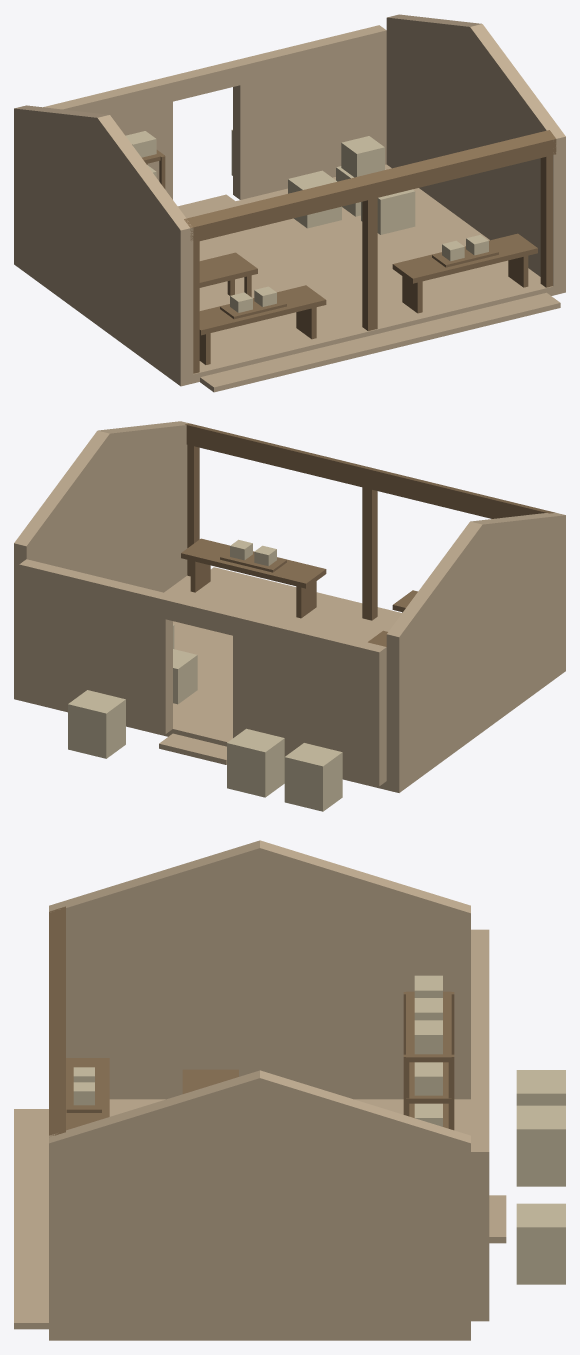
Rendered from N2-replacement.glb.
The picture shows the model from 3 angles, top to bottom: view 1: azimuth 30°, elevation 25°; view 2: azimuth 150°, elevation 25°; view 3: azimuth 270°, elevation 25°; orthographic projection. The views are drawn at different scales.
Visible parts, largest first — view 1: N2_floor, N2_sidewall, N2_rearwall.001, N2_sidewall.001, N2_frontbeam, N2_gable_-3.87, N2_gable_3.87, N2_frontstep, N2_rearwall, N2_counter.001, N2_counter, N2_frontpost.001 (+14 smaller); view 2: N2_sidewall, N2_rearwall.001, N2_rearwall, N2_sidewall.001, N2_floor, N2_gable_-3.87, N2_gable_3.87, N2_frontbeam, N2_closed_stock, N2_closed_stock.001, N2_closed_stock.002, N2_counter.001 (+9 smaller); view 3: N2_sidewall.001, N2_sidewall, N2_gable_3.87, N2_gable_-3.87, N2_frontstep, N2_floor, N2_rearwall.001, N2_closed_stock.001, N2_closed_stock.002, N2_frontbeam, N2_closed_stock, N2_rearwall (+11 smaller).
Part boxes in pixels (x1,y1,x2,y2): N2_floor: [14, 164, 565, 386]; N2_sidewall: [14, 121, 193, 377]; N2_rearwall.001: [233, 25, 386, 199]; N2_sidewall.001: [386, 31, 565, 286]; N2_frontbeam: [184, 130, 556, 242]; N2_gable_-3.87: [14, 105, 193, 243]; N2_gable_3.87: [386, 14, 565, 151]; N2_frontstep: [200, 292, 560, 392]; N2_rearwall: [43, 77, 172, 199]; N2_counter.001: [392, 233, 537, 283]; N2_counter: [199, 285, 326, 335]; N2_frontpost.001: [362, 198, 377, 330]; N2_sidewall: [386, 528, 565, 783]; N2_rearwall.001: [19, 559, 172, 733]; N2_rearwall: [233, 611, 386, 786]; N2_sidewall.001: [14, 442, 187, 691]; N2_floor: [14, 575, 565, 792]; N2_gable_-3.87: [386, 513, 565, 649]; N2_gable_3.87: [14, 421, 189, 558]; N2_frontbeam: [185, 423, 555, 518]; N2_closed_stock: [284, 743, 342, 811]; N2_closed_stock.001: [227, 728, 284, 797]; N2_closed_stock.002: [68, 690, 125, 758]; N2_counter.001: [181, 538, 326, 588]; N2_sidewall.001: [49, 1159, 470, 1329]; N2_sidewall: [66, 929, 470, 1099]; N2_gable_3.87: [49, 1070, 470, 1159]; N2_gable_-3.87: [49, 840, 470, 929]; N2_frontstep: [14, 1109, 48, 1329]; N2_floor: [49, 1099, 470, 1340]; N2_rearwall.001: [471, 1061, 489, 1321]; N2_closed_stock.001: [516, 1105, 565, 1186]; N2_closed_stock.002: [516, 1203, 565, 1284]; N2_frontbeam: [49, 906, 65, 1135]; N2_closed_stock: [516, 1070, 565, 1105]; N2_rearwall: [471, 929, 489, 1019].
Size of the model in its own units: 8 by 4.13 by 7.85.
